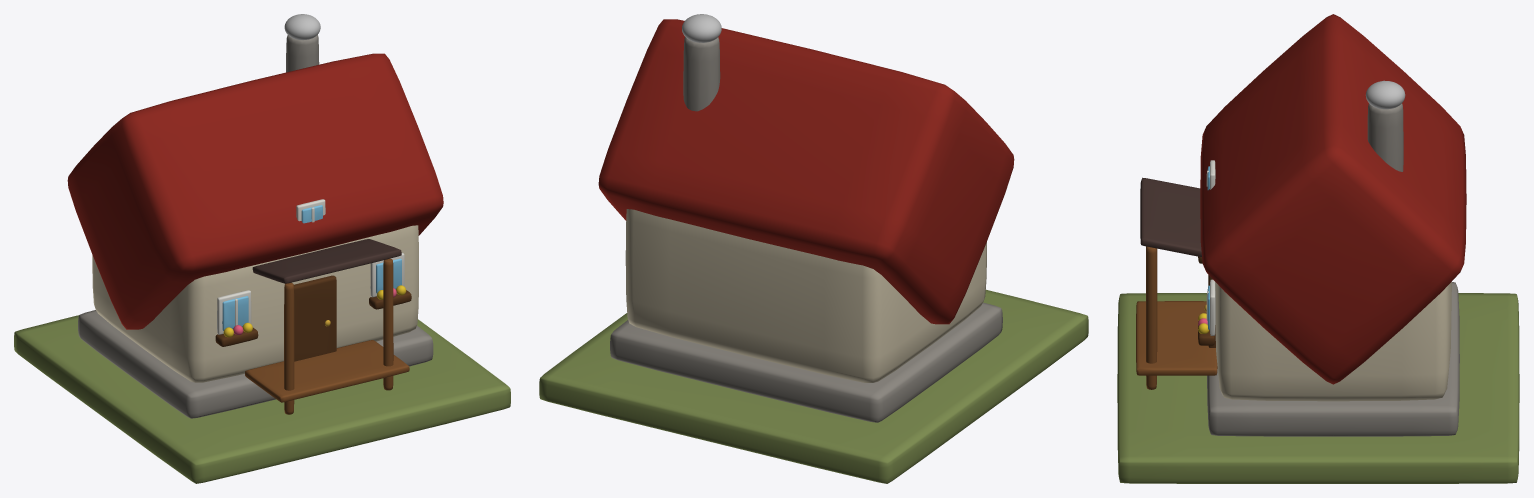
The model's file is Bauernhaus.fbx.
3 views of the same model, side by side, from view 1: azimuth 30°, elevation 25°; view 2: azimuth 150°, elevation 25°; view 3: azimuth 270°, elevation 25° (orthographic). The views are drawn at different scales.
Visible parts, largest first — view 1: Bauernhaus; view 2: Bauernhaus; view 3: Bauernhaus.
Boxes of the visible parts, box(x1,y1,x2,y2) form: Bauernhaus: box(14, 14, 510, 483); Bauernhaus: box(539, 14, 1088, 483); Bauernhaus: box(1117, 14, 1519, 483).
Bounding box in the file's own units: 2.7 × 2.64 × 2.7.
